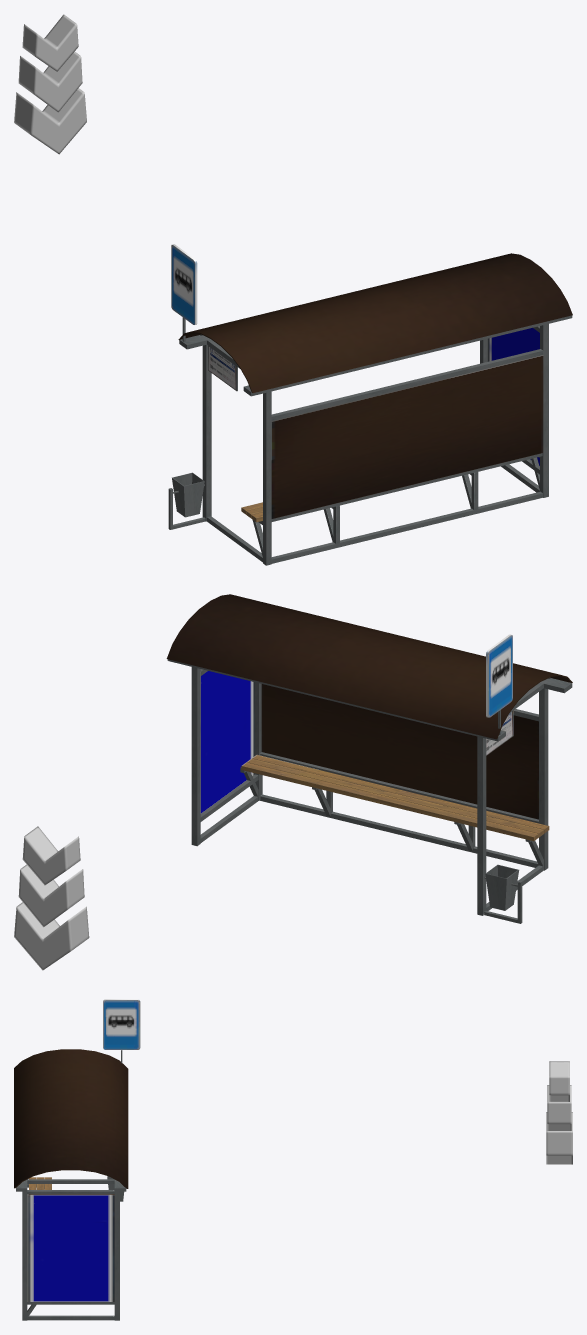
The model's file is BusStop - Drop.fbx.
The picture shows the model from 3 angles, top to bottom: view 1: azimuth 30°, elevation 25°; view 2: azimuth 150°, elevation 25°; view 3: azimuth 270°, elevation 25°; orthographic projection. The views are drawn at different scales.
Parts seen in each view (by area): view 1: BusStop_01_2, Arrows_Red; view 2: BusStop_01_2, Arrows_Red; view 3: BusStop_01_2, Arrows_Red.
Part boxes in pixels (x1,y1,x2,y2): BusStop_01_2: (168, 244, 572, 565); Arrows_Red: (14, 14, 86, 154); BusStop_01_2: (166, 594, 572, 923); Arrows_Red: (14, 826, 89, 970); BusStop_01_2: (14, 999, 140, 1320); Arrows_Red: (546, 1061, 572, 1164).
Bounding box in the file's own units: 341 × 261 × 635.
